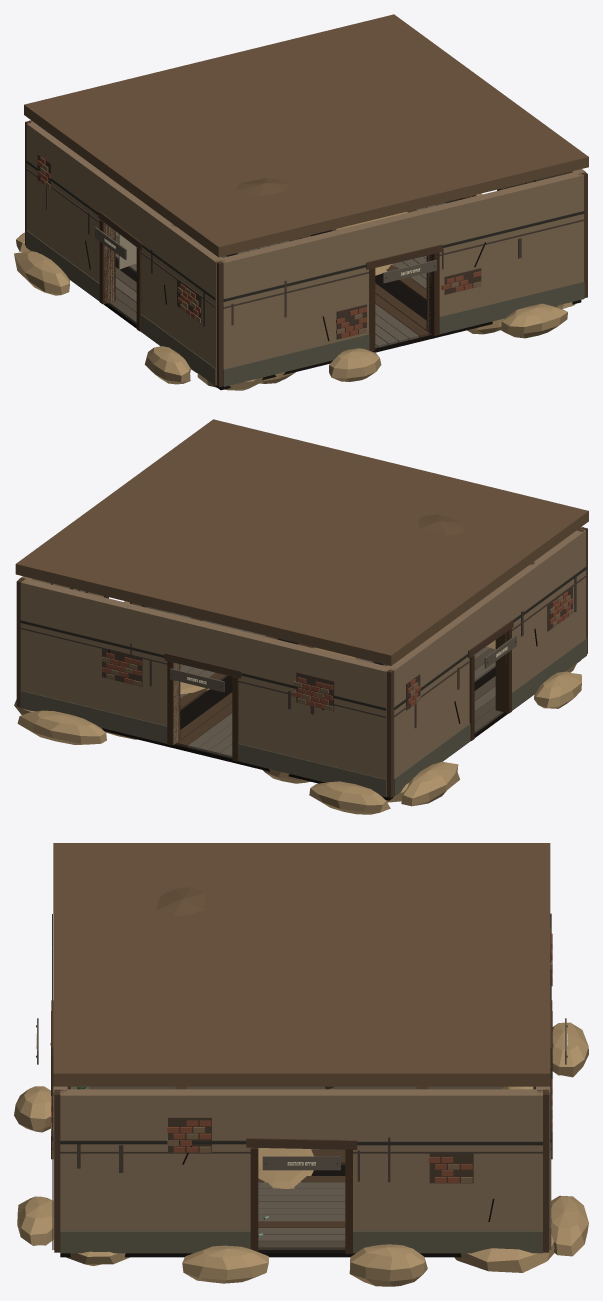
File: TownBldg_doctor.glb
3 views of the same model, one above another, from view 1: azimuth 30°, elevation 25°; view 2: azimuth 150°, elevation 25°; view 3: azimuth 270°, elevation 25° (orthographic). The views are drawn at different scales.
Visible parts, largest first — view 1: TownBldg_doctor.001; view 2: TownBldg_doctor.001; view 3: TownBldg_doctor.001.
Part boxes in pixels (box(x1,y1,x2,y2)): TownBldg_doctor.001: box(14, 14, 588, 390); TownBldg_doctor.001: box(14, 419, 588, 814); TownBldg_doctor.001: box(14, 843, 588, 1286).
Bounding box in the file's own units: 12.92 × 4.79 × 11.91.
